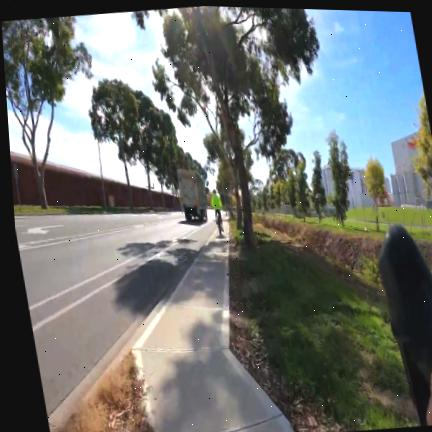Bike_Lane: (32, 228, 213, 419)
